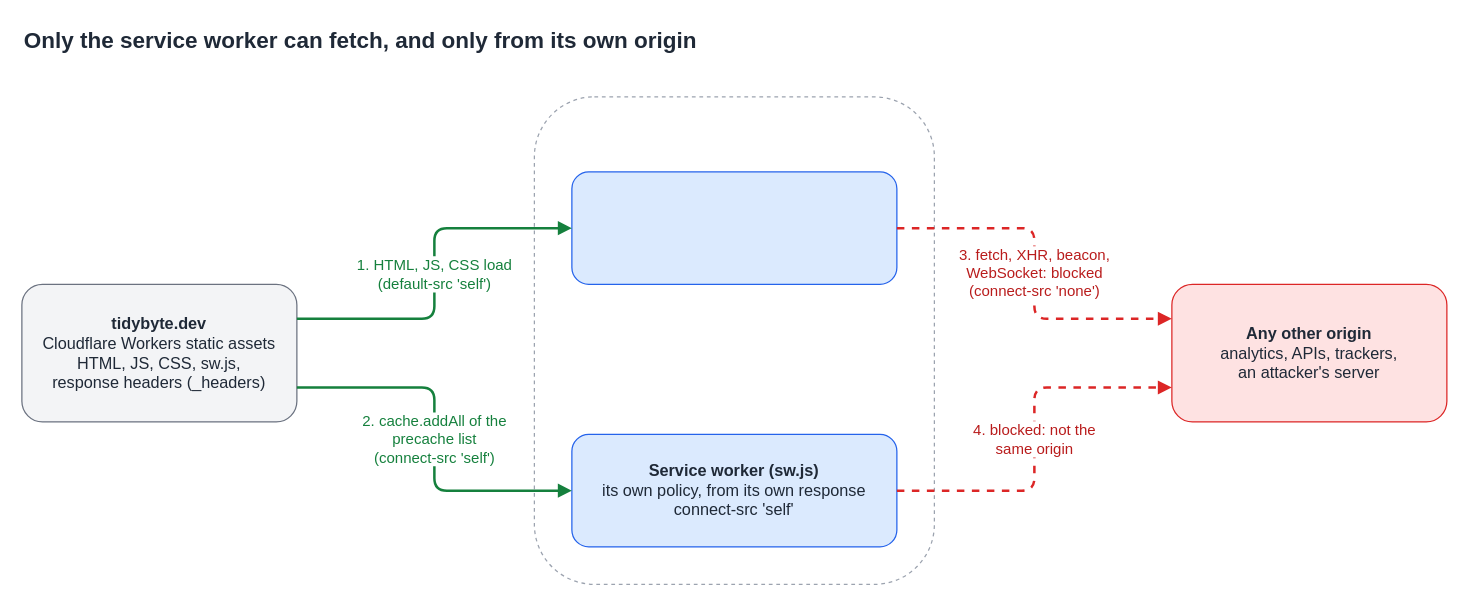
Some shapes in this 1469 by 606 pixel diagram are drawn without their labels. Here are the shapes that lost their labels. From the top down, the box of each, then its label:
(571, 171, 897, 284): Page and tool code policies: _headers + meta connect-src 'none'
(533, 96, 934, 584): Browser tab
